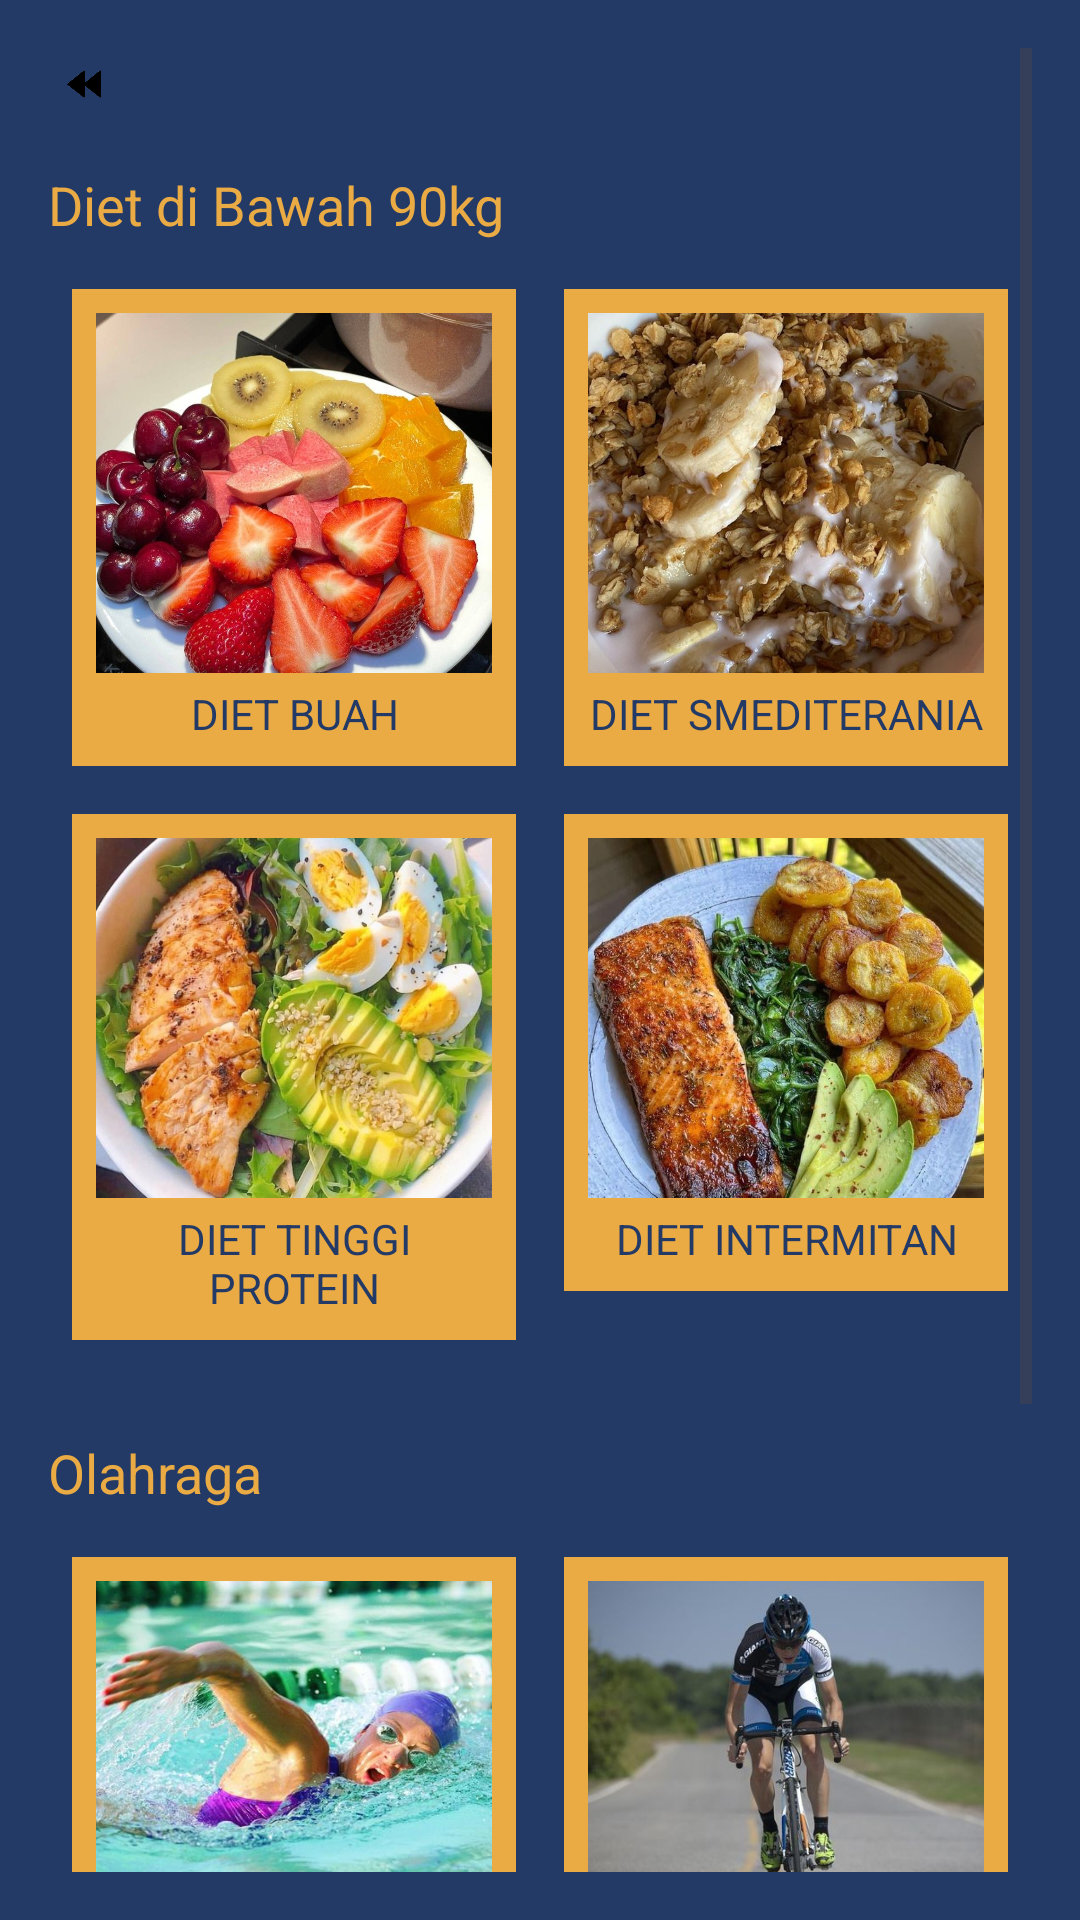

Named icons in this screenshot (1080x1920) and their bounding boxes, (x1, y1, x2, y2):
tombolback: (67, 70, 101, 98)
